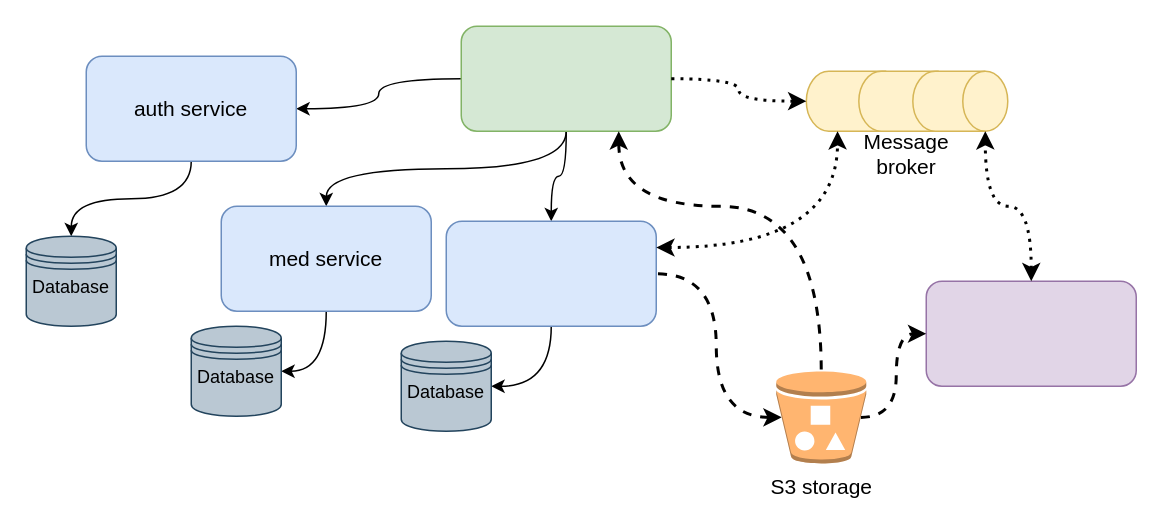
The diagram is 1163 pixels wide and 525 high, and some of its shapes have lost their labels. The box of each missing label's shape, as (x1, y1, x2, y2) in pixels:
composition-api: (460, 25, 671, 131)
exam service: (445, 220, 656, 326)
ml service: (925, 280, 1136, 386)
